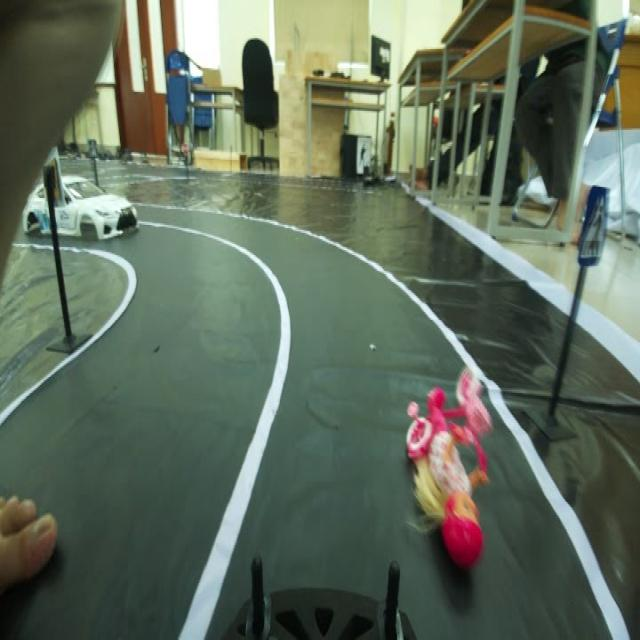crosswalk: (576, 189, 618, 281)
